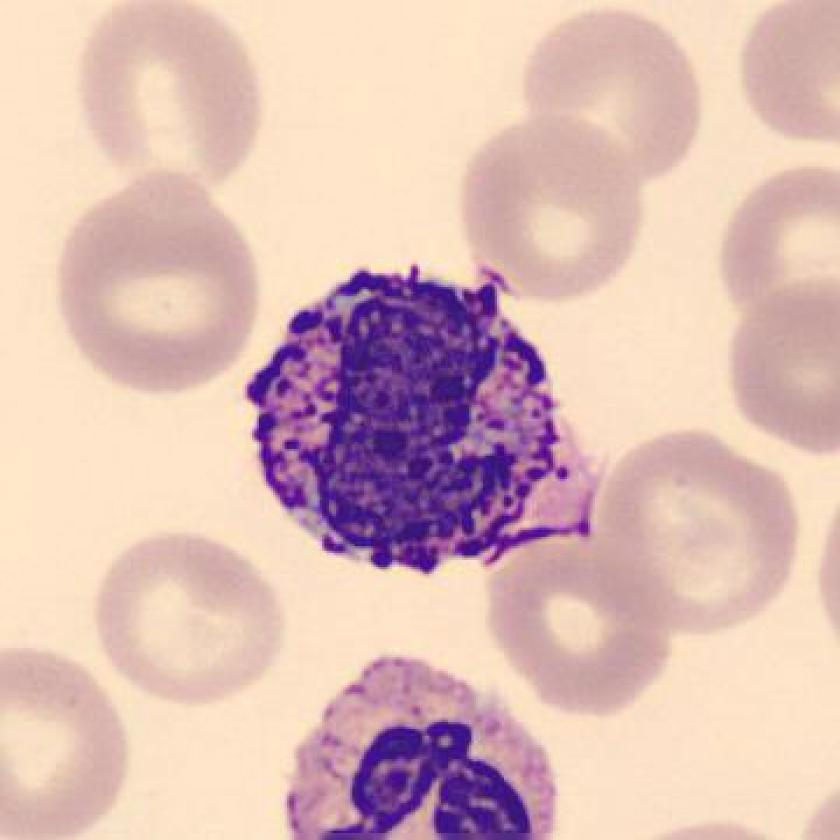basophil: (235, 272, 585, 577), (274, 644, 570, 840)
